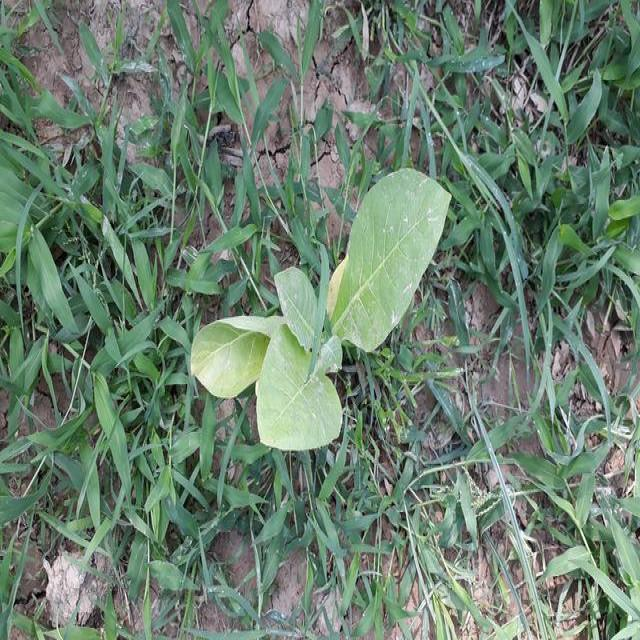crop: (189, 157, 456, 466)
